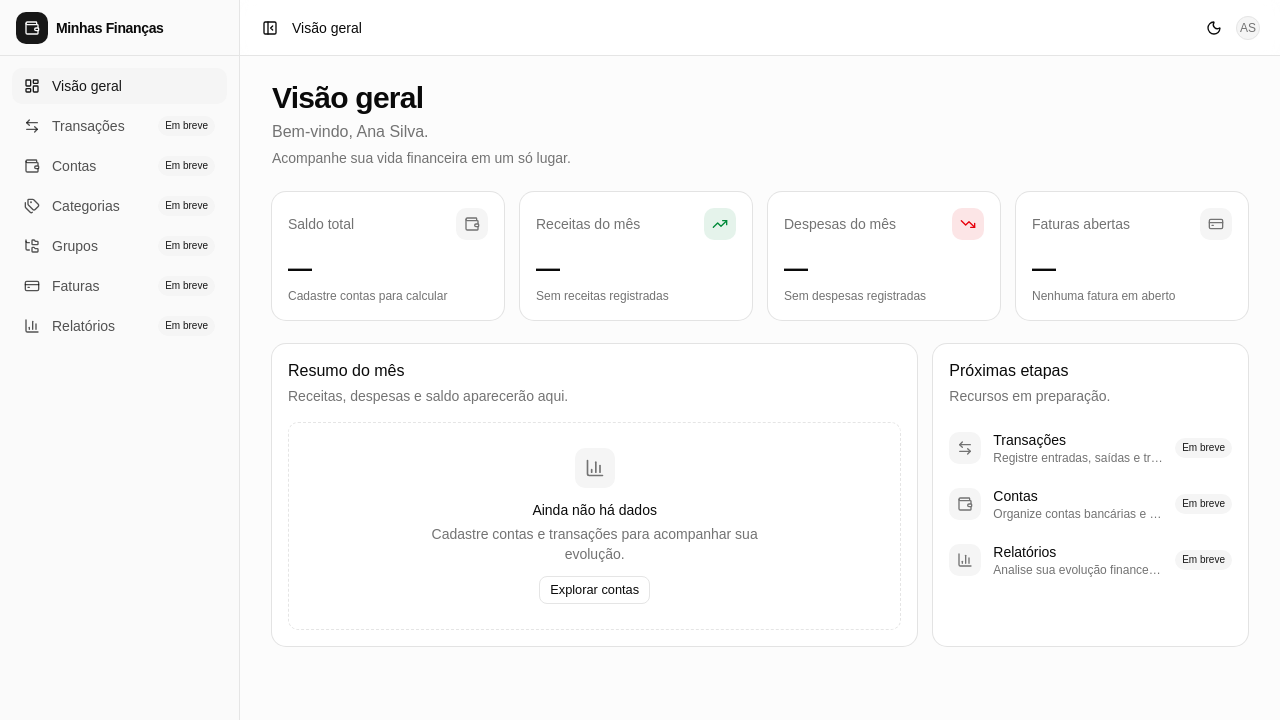
Test: App shell › navigates to a coming soon area from the sidebar
The width and height of the screenshot is (1280, 720).
Expected: the heading "Visão geral" is shown, top-left (272, 81), bottom-right (423, 114)
Click the link "Contas Em breve": coordinates (74, 166) top-left (24, 156), bottom-right (215, 176)
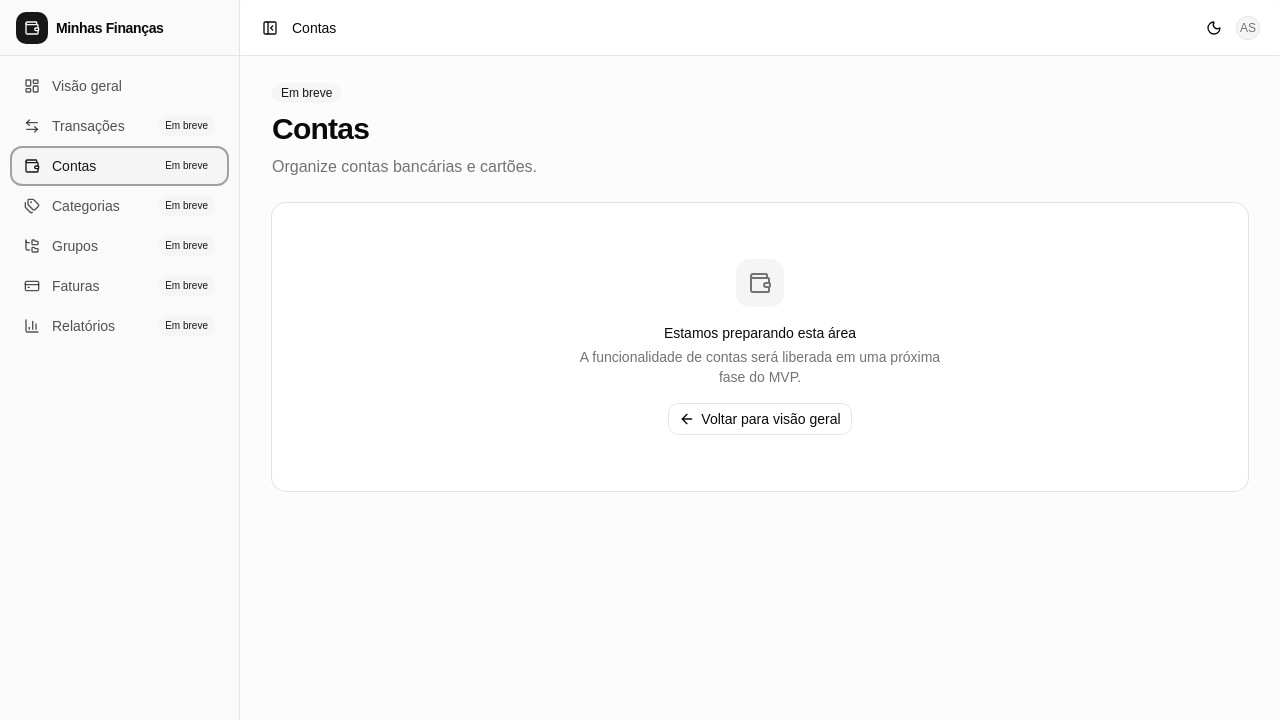
Expected: the icon "Em breve" next to "Transações" is shown, top-left (165, 120), bottom-right (208, 131)
Expected: the heading "Contas" is shown, top-left (272, 112), bottom-right (369, 145)
